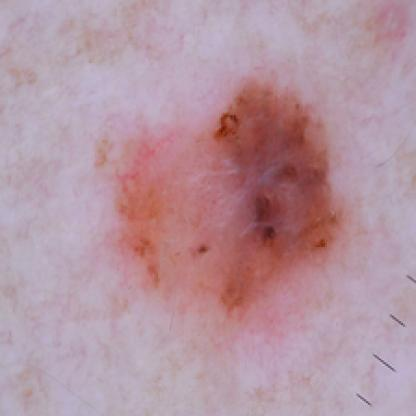Skin_Cancer-Malignant: (116, 75, 347, 325)
